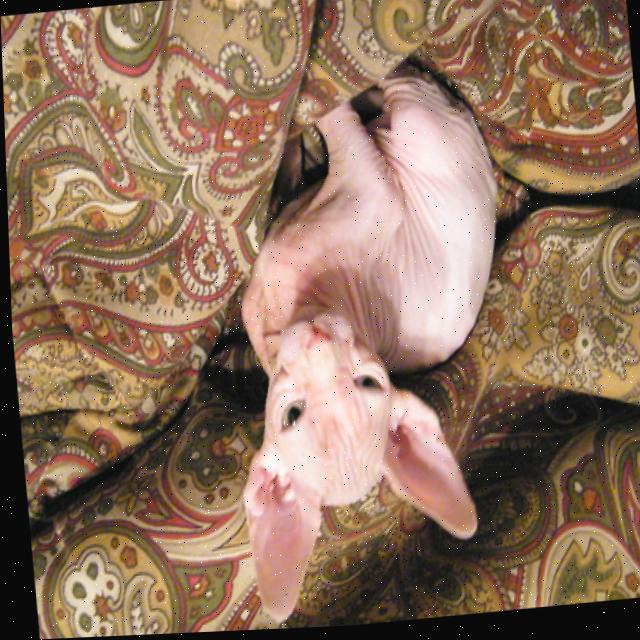Sphynx: (202, 50, 534, 631)
